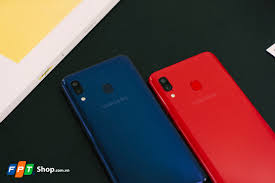samsung: (60, 54, 205, 183)
